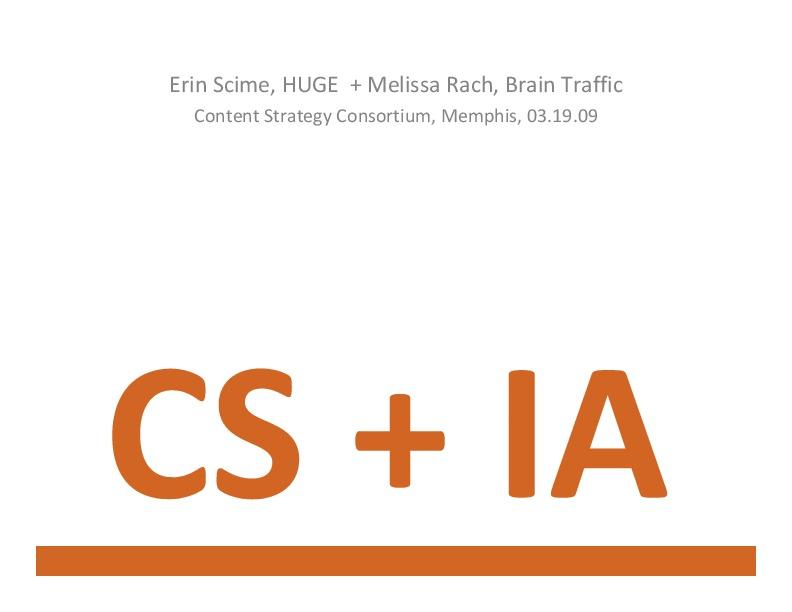title: (111, 330, 724, 518)
